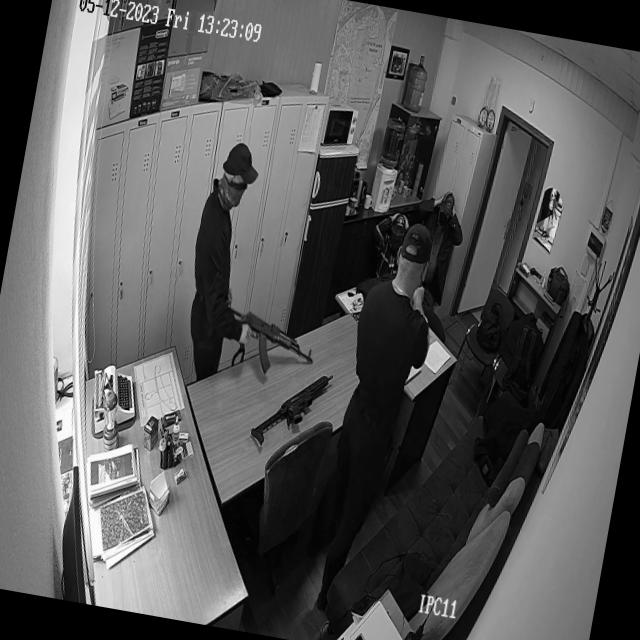gun: (248, 356, 336, 456), (214, 301, 320, 380)
person: (316, 212, 450, 563), (409, 182, 471, 276), (366, 199, 426, 256)
person with a gun: (174, 134, 350, 380)
